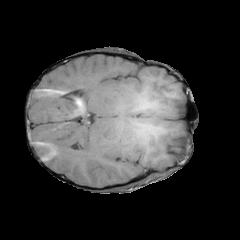glioma: (110, 82, 169, 160)
